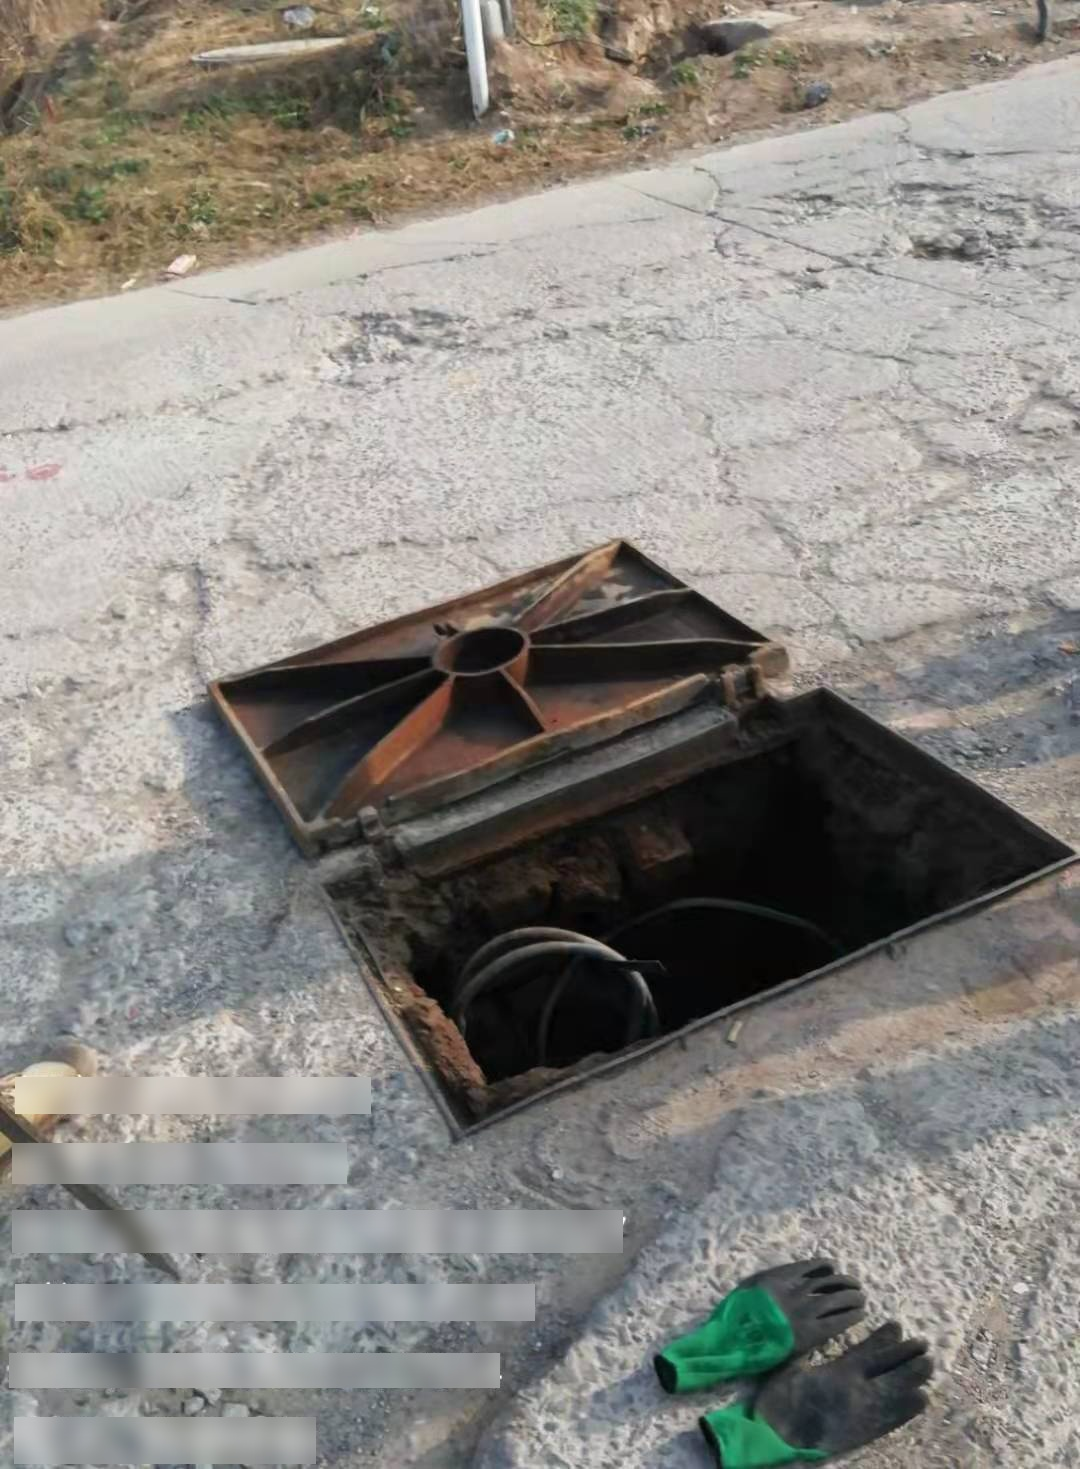uncovered: (225, 545, 1080, 1146)
